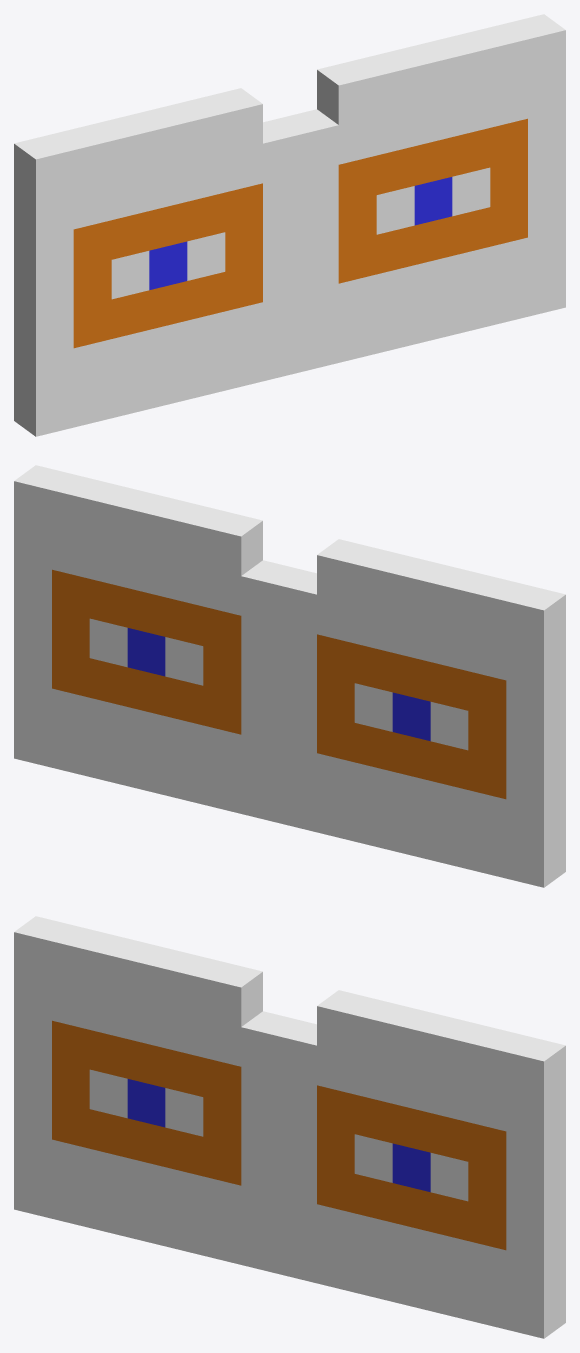
3 renders of one model, top to bottom at view 1: azimuth 30°, elevation 25°; view 2: azimuth 150°, elevation 25°; view 3: azimuth 330°, elevation 25°, orthographic.
Visible parts, largest first — view 1: eye-shapes057, eye-shapes015, eye-shapes016; view 2: eye-shapes057, eye-shapes015, eye-shapes016; view 3: eye-shapes057, eye-shapes015, eye-shapes016.
Boxes of the visible parts, x1,y1,x2,y2 form: eye-shapes057: (14,14,565,436); eye-shapes015: (73,118,527,348); eye-shapes016: (149,177,452,290); eye-shapes057: (14,465,565,887); eye-shapes015: (52,569,506,799); eye-shapes016: (127,628,430,741); eye-shapes057: (14,916,565,1338); eye-shapes015: (52,1020,506,1250); eye-shapes016: (127,1079,430,1192).
Bounding box in the file's own units: 140 × 70 × 10.
Materials: 3 (3 with a texture image).
